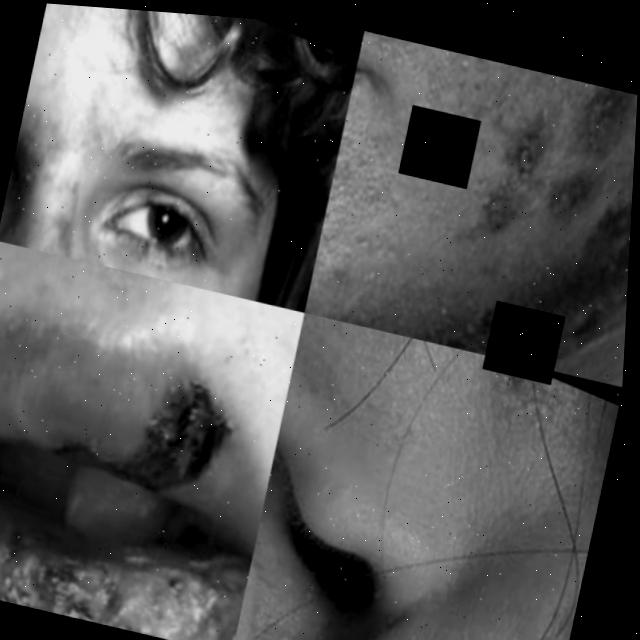lupus-detected: (0, 281, 297, 640), (0, 139, 316, 310), (451, 57, 639, 286), (429, 345, 624, 487), (231, 567, 572, 640), (304, 167, 433, 337)
